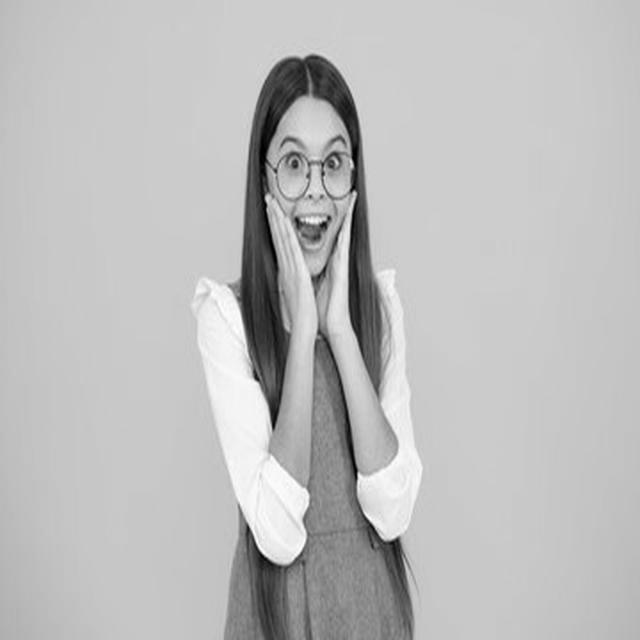Surprised: (266, 98, 352, 275)
